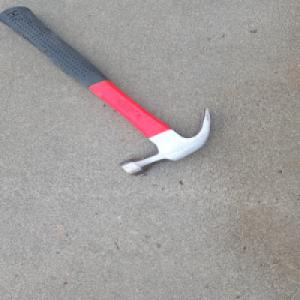Hammer: (8, 6, 213, 176)
